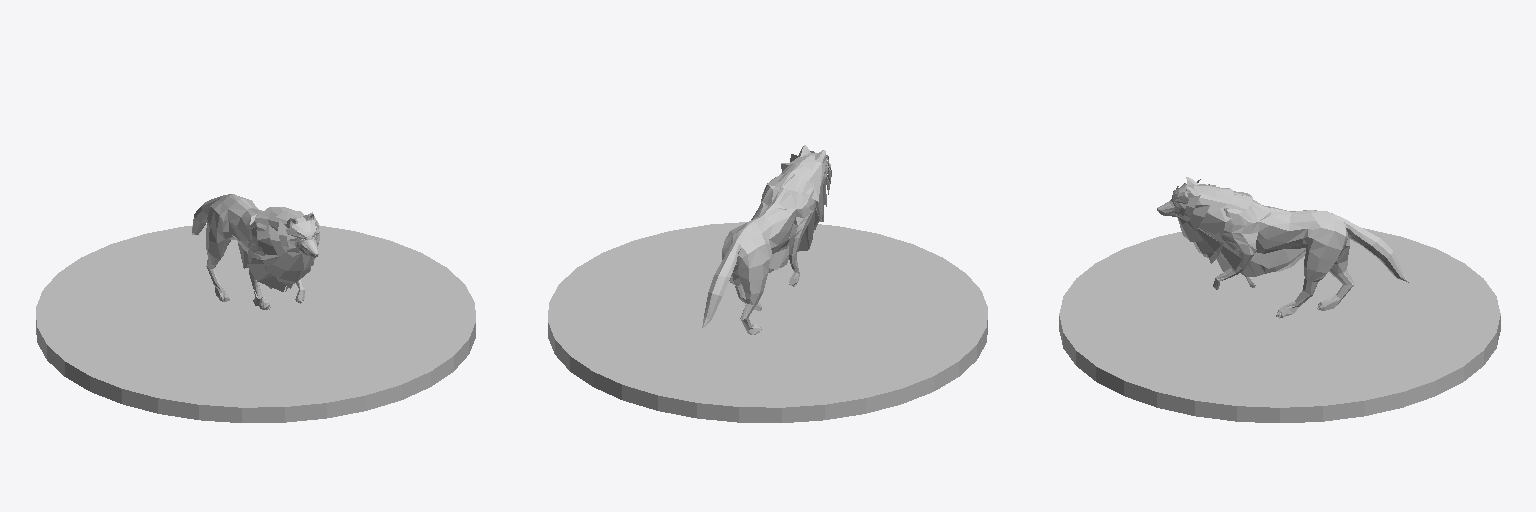
Rendered from Wolf_0011.obj.
The picture shows the model from 3 angles: view 1: azimuth 30°, elevation 25°; view 2: azimuth 150°, elevation 25°; view 3: azimuth 270°, elevation 25°; orthographic projection.
Parts seen in each view (by area): view 1: Circle, Wolf1_Material__wolf_col_tga_0, Wolf2_fur__fella3_jpg_001_0; view 2: Circle, Wolf1_Material__wolf_col_tga_0, Wolf2_fur__fella3_jpg_001_0; view 3: Circle, Wolf1_Material__wolf_col_tga_0, Wolf2_fur__fella3_jpg_001_0.
Part boxes in pixels (x1,y1,x2,y2): Circle: (36, 224, 475, 422); Wolf1_Material__wolf_col_tga_0: (192, 194, 318, 309); Wolf2_fur__fella3_jpg_001_0: (238, 207, 319, 291); Circle: (548, 222, 987, 422); Wolf1_Material__wolf_col_tga_0: (702, 145, 830, 334); Wolf2_fur__fella3_jpg_001_0: (767, 151, 831, 272); Circle: (1059, 228, 1500, 422); Wolf1_Material__wolf_col_tga_0: (1157, 177, 1408, 317); Wolf2_fur__fella3_jpg_001_0: (1172, 179, 1306, 276).
Size of the model in its own units: 1.69 by 0.6259 by 1.69.